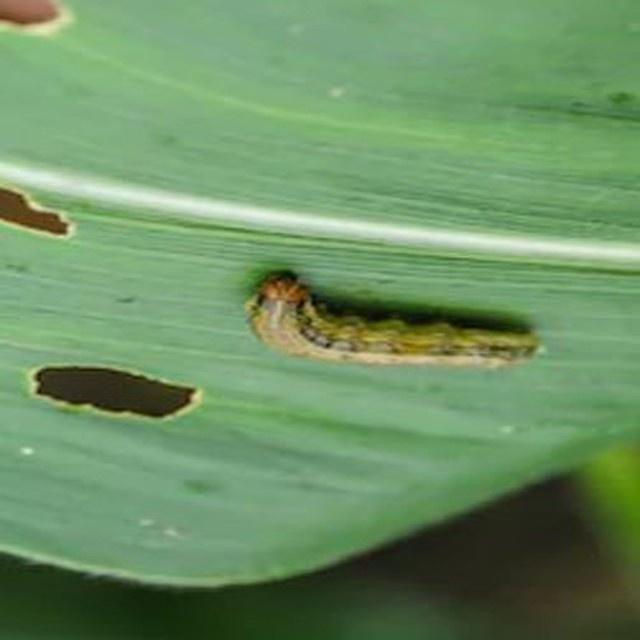gusano_cogollero: (250, 268, 538, 375)
